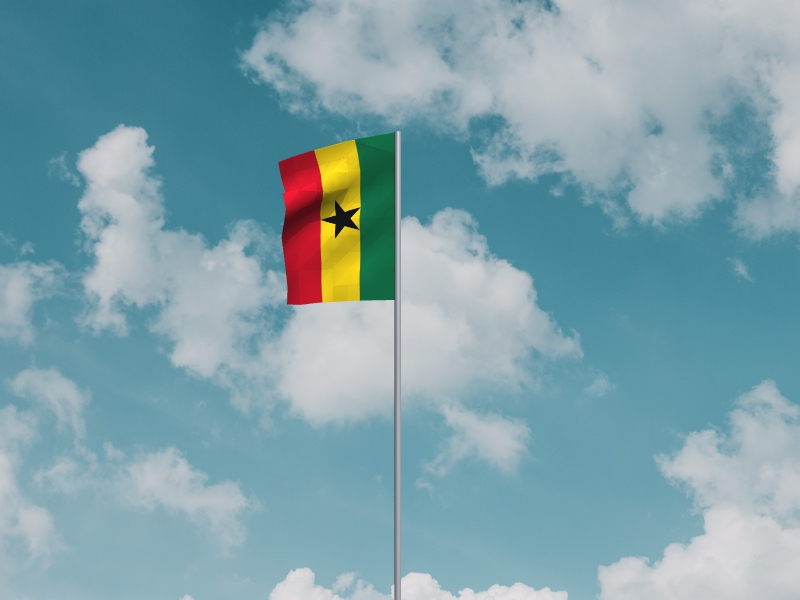gh: (278, 133, 395, 306)
